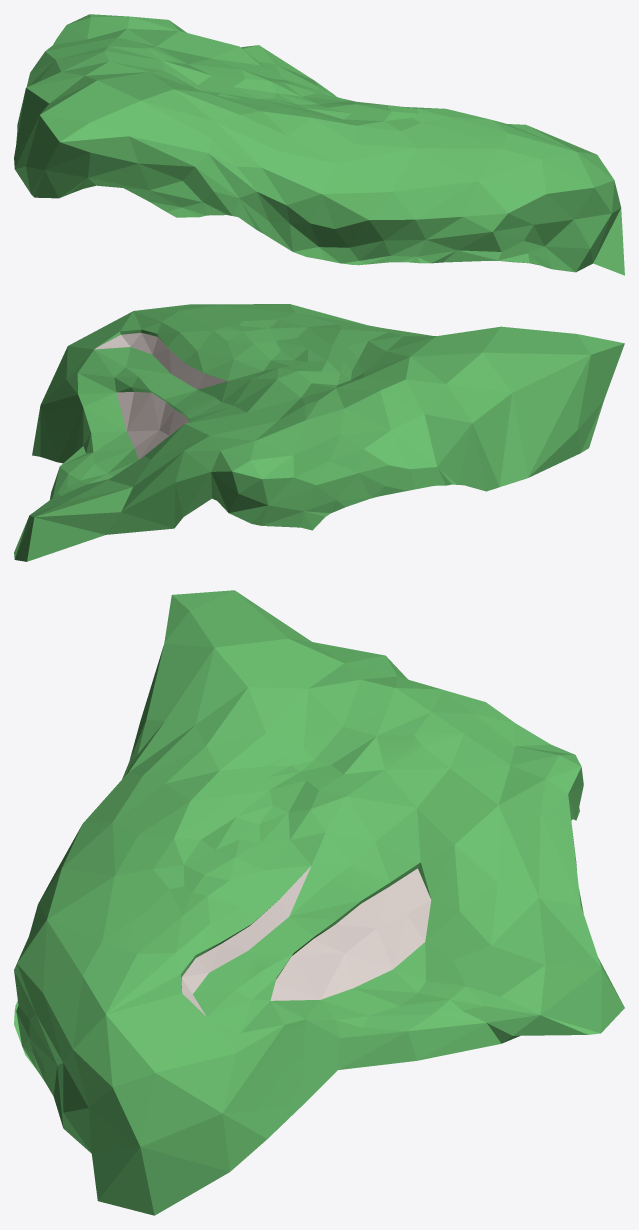
File: ground.068.fbx
3 renders of one model, top to bottom at view 1: azimuth 30°, elevation 25°; view 2: azimuth 150°, elevation 25°; view 3: azimuth 270°, elevation 25°, orthographic. The views are drawn at different scales.
Parts seen in each view (by area): view 1: ground_068; view 2: ground_068; view 3: ground_068.
Boxes of the visible parts, left/top/right/bottom form: ground_068: left=14, top=14, right=624, bottom=275; ground_068: left=14, top=304, right=624, bottom=561; ground_068: left=14, top=590, right=624, bottom=1215.
Bounding box in the file's own units: 13070 × 5762 × 10438.
